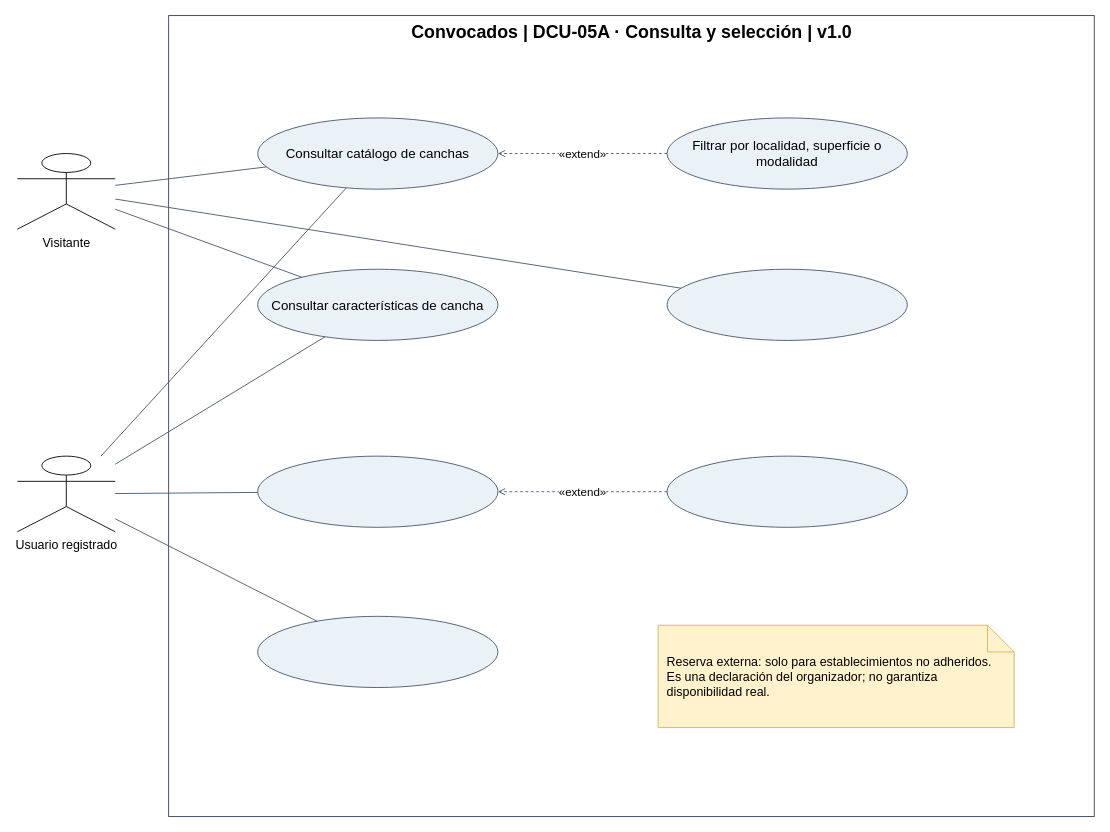
The diagram is 1110 pixels wide and 832 high, and some of its shapes have lost their labels. The shapes that lost their labels are listed below. From the top down, each one's box as (x1, y1, x2, y2) in pixels, then its label:
(666, 268, 907, 340): Visualizar ubicación en mapa
(257, 455, 498, 527): Seleccionar cancha para partido
(666, 455, 907, 527): Declarar reserva externa
(257, 615, 498, 688): Seleccionar cancha para solicitar reserva
